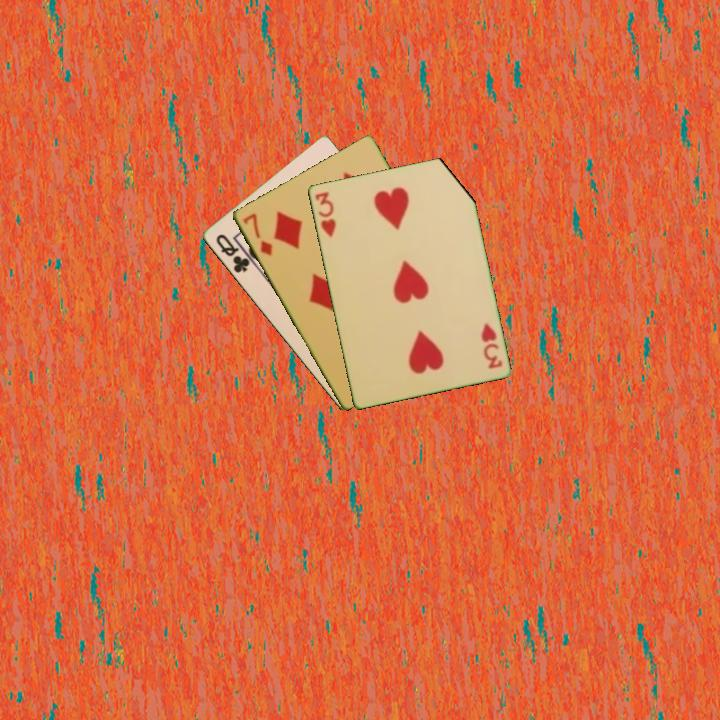3h: (477, 319, 505, 371), (311, 188, 338, 240)
7d: (239, 209, 275, 259)
Qc: (212, 230, 257, 276)
